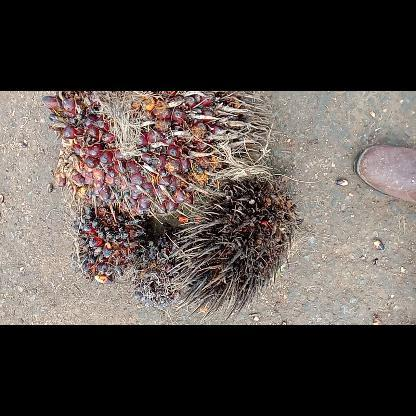Janjang kosong: (164, 176, 302, 318)
TBS abnormal: (70, 202, 150, 286), (128, 229, 188, 308)
TBS masak: (39, 92, 275, 216)
